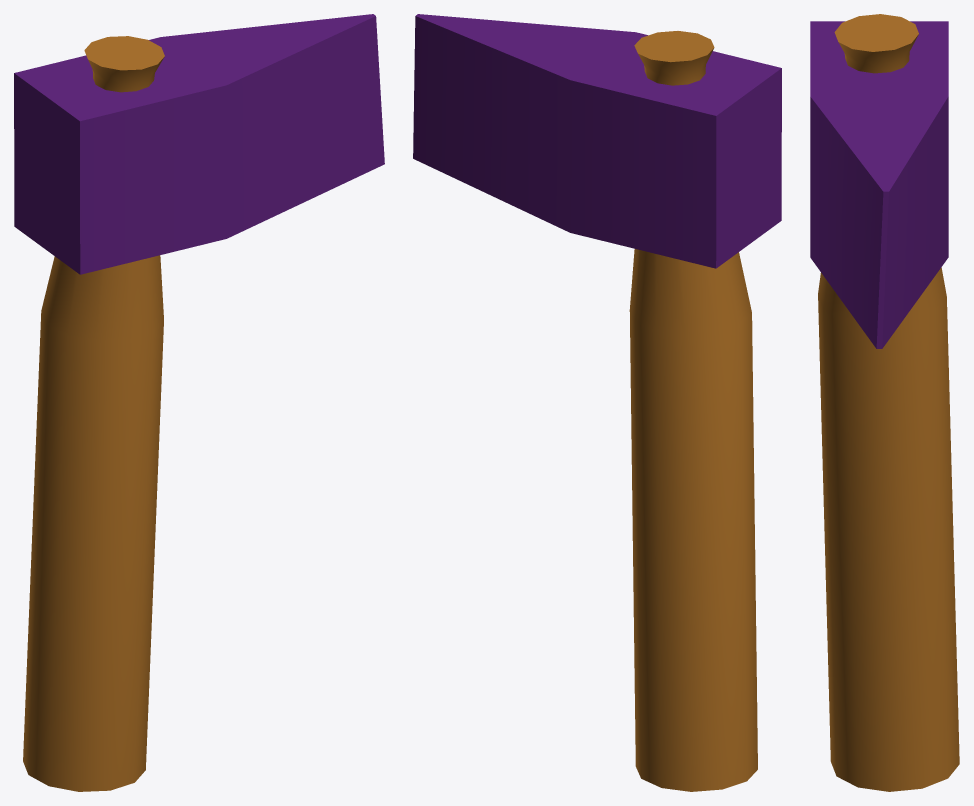
Rendered from Magnatite axe.fbx.
The picture shows the model from 3 angles, left to right: view 1: azimuth 30°, elevation 25°; view 2: azimuth 150°, elevation 25°; view 3: azimuth 270°, elevation 25°; orthographic projection. The views are drawn at different scales.
Parts seen in each view (by area): view 1: axe.004; view 2: axe.004; view 3: axe.004.
Boxes of the visible parts, left/top/right/bottom form: axe.004: left=14, top=14, right=384, bottom=791; axe.004: left=413, top=14, right=781, bottom=791; axe.004: left=810, top=14, right=959, bottom=791.
Size of the model in its own units: 0.2305 by 0.4565 by 0.0825.
